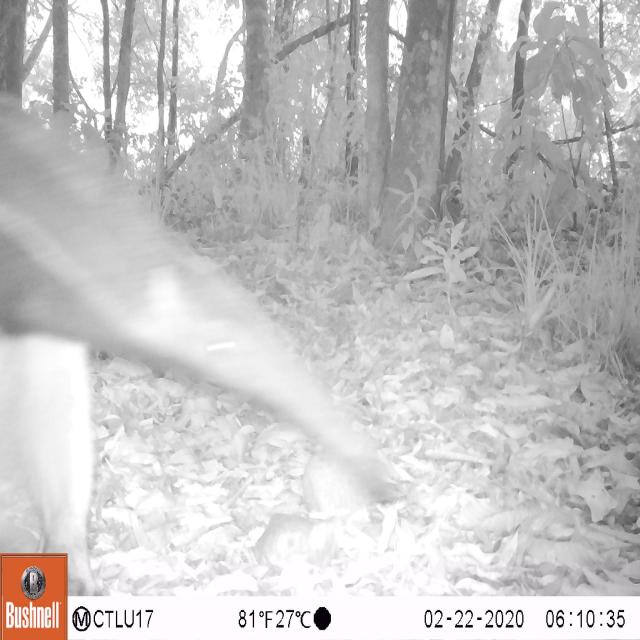Giant Anteater: (0, 79, 417, 589)
